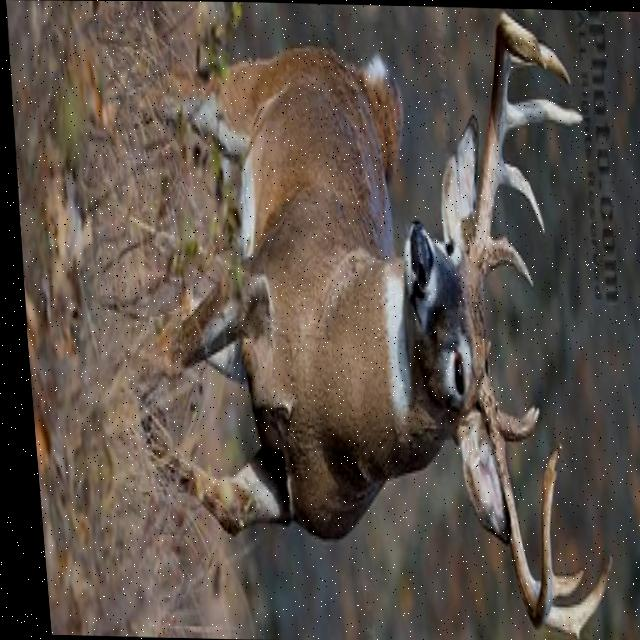L-F: (468, 371, 554, 629)
L-G1: (488, 398, 532, 442)
R-F: (461, 9, 546, 291)
R-G1: (480, 229, 529, 287)
R-G2: (492, 147, 541, 236)
R-G3: (502, 95, 581, 134)
